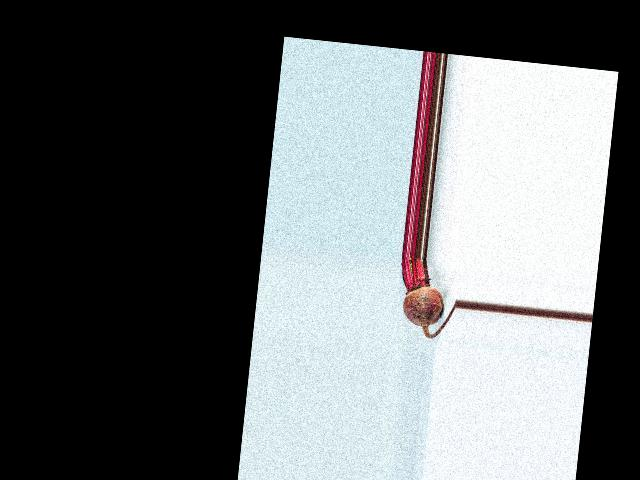beet: (393, 255, 460, 340)
